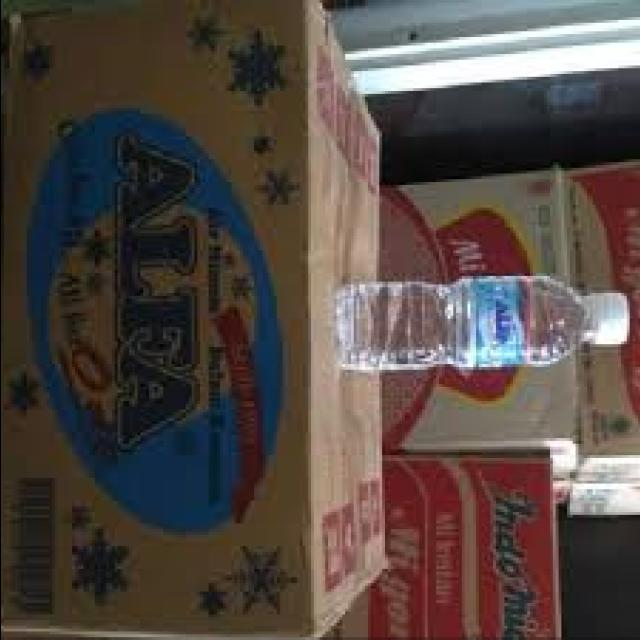寶特瓶: (319, 214, 640, 440)
